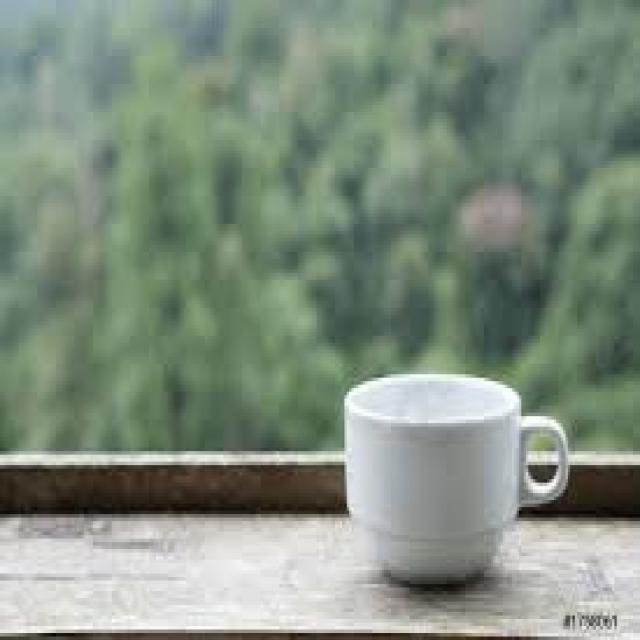taza: (326, 345, 583, 602)
